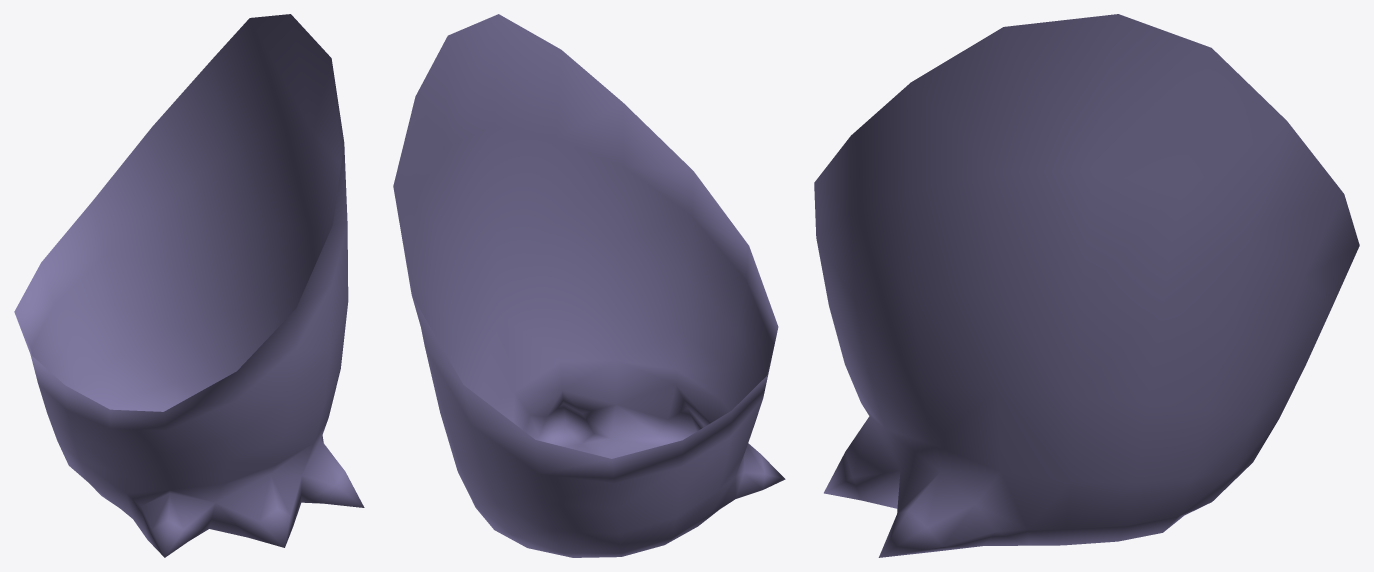
The model's file is gengarPiernaIzq.dae.
The picture shows the model from 3 angles, left to right: view 1: azimuth 30°, elevation 25°; view 2: azimuth 150°, elevation 25°; view 3: azimuth 270°, elevation 25°; orthographic projection. The views are drawn at different scales.
Parts seen in each view (by area): view 1: piernaIzq; view 2: piernaIzq; view 3: piernaIzq.
Part boxes in pixels (box(x1,y1,x2,y2)): piernaIzq: box(14, 14, 364, 557); piernaIzq: box(393, 14, 785, 557); piernaIzq: box(814, 14, 1359, 557).
Size of the model in its own units: 3.34 by 5.27 by 4.69.
